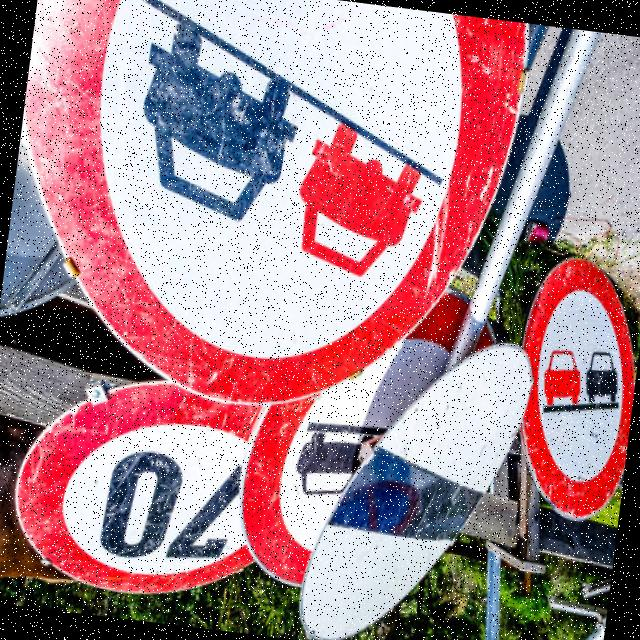no_passing: (19, 0, 528, 404), (520, 251, 637, 522)
